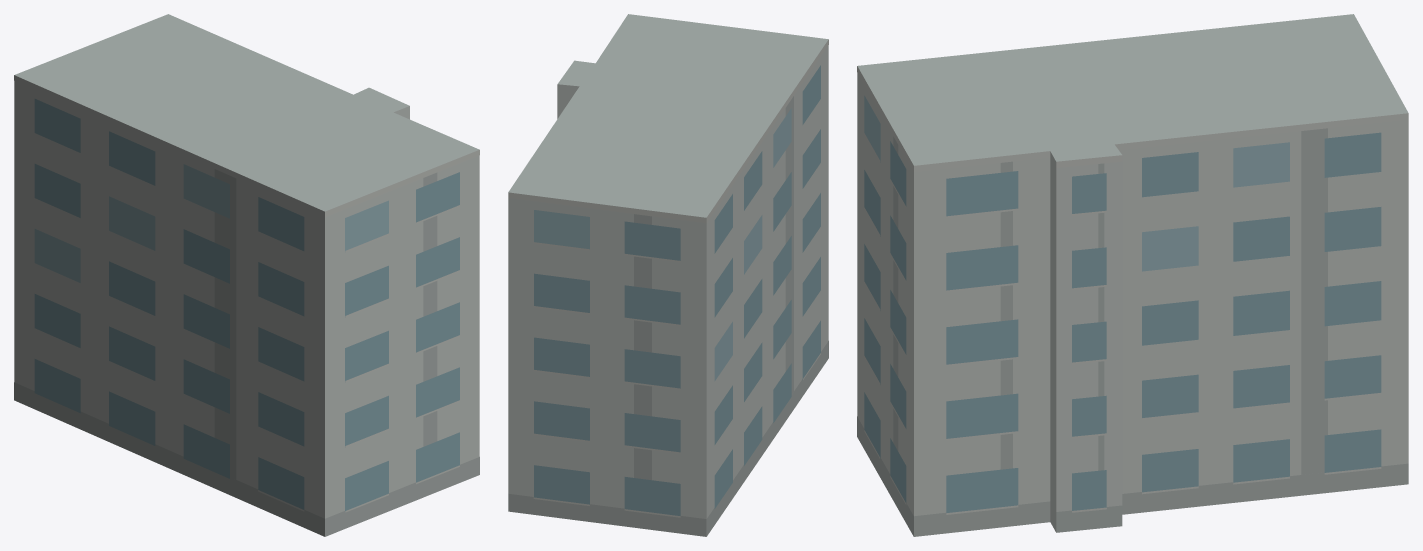
The model's file is survey-upis-32812073.glb.
3 views of the same model, side by side, from view 1: azimuth 30°, elevation 25°; view 2: azimuth 150°, elevation 25°; view 3: azimuth 270°, elevation 25° (orthographic). The views are drawn at different scales.
Parts seen in each view (by area): view 1: survey-upis-32812073.tmp; view 2: survey-upis-32812073.tmp; view 3: survey-upis-32812073.tmp.
Part boxes in pixels (<box>): survey-upis-32812073.tmp: <box>14,14,479,536</box>; survey-upis-32812073.tmp: <box>508,14,828,536</box>; survey-upis-32812073.tmp: <box>857,14,1408,536</box>.
Size of the model in its own units: 12.21 by 13.9 by 18.73.
